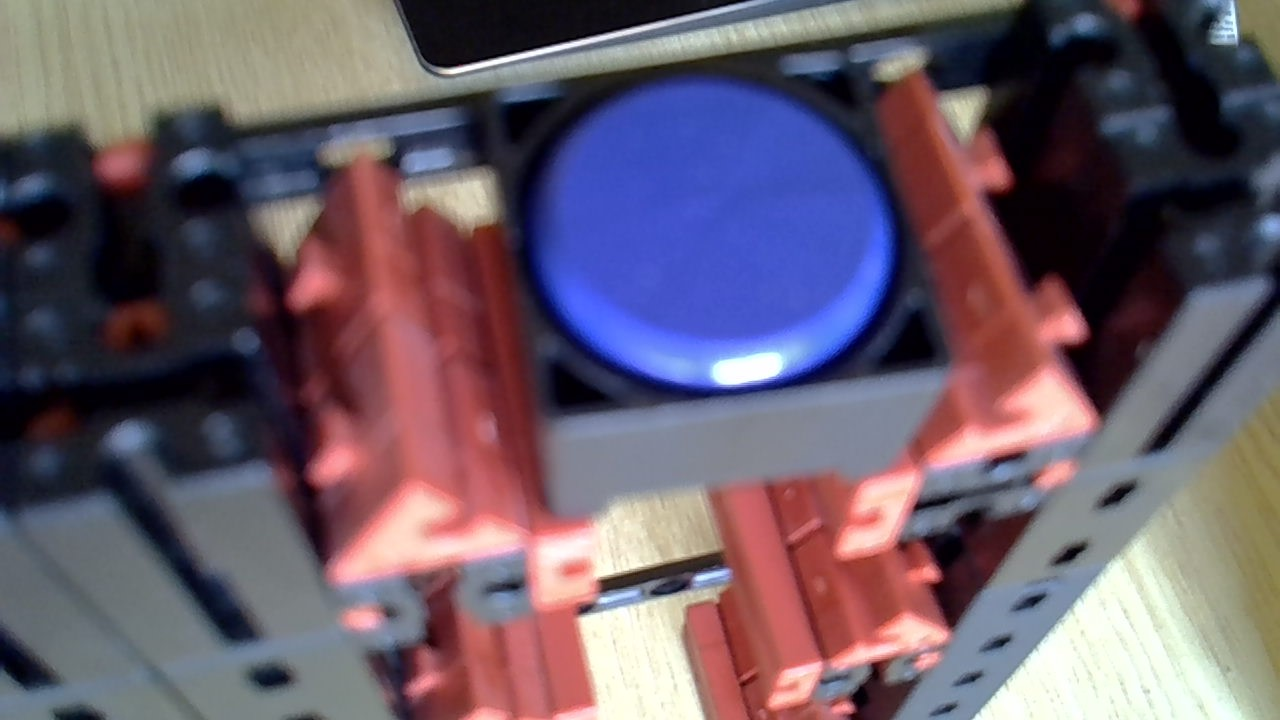Behaelter: (484, 97, 947, 481)
WerkStueck: (520, 70, 898, 392)
